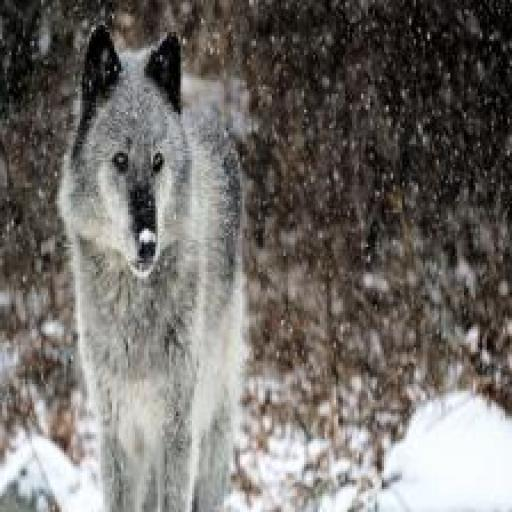wolf: (41, 7, 282, 512)
